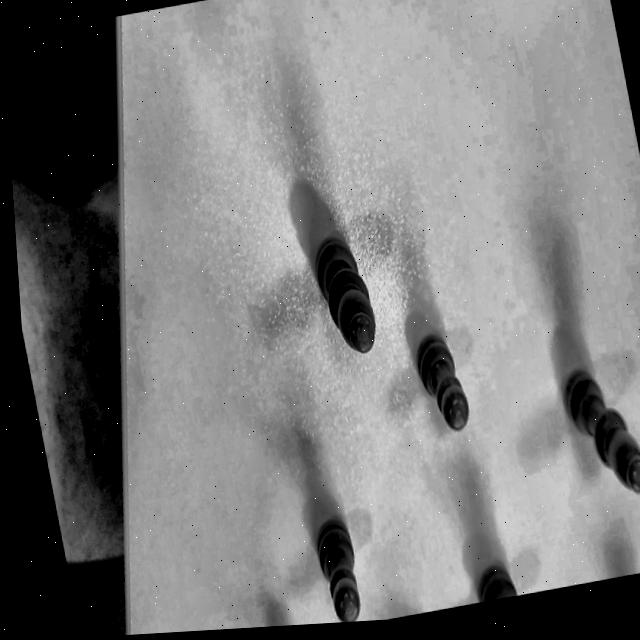black-bishop: (280, 194, 394, 389), (541, 340, 640, 519)
black-pawn: (400, 305, 482, 458), (298, 492, 375, 624)
